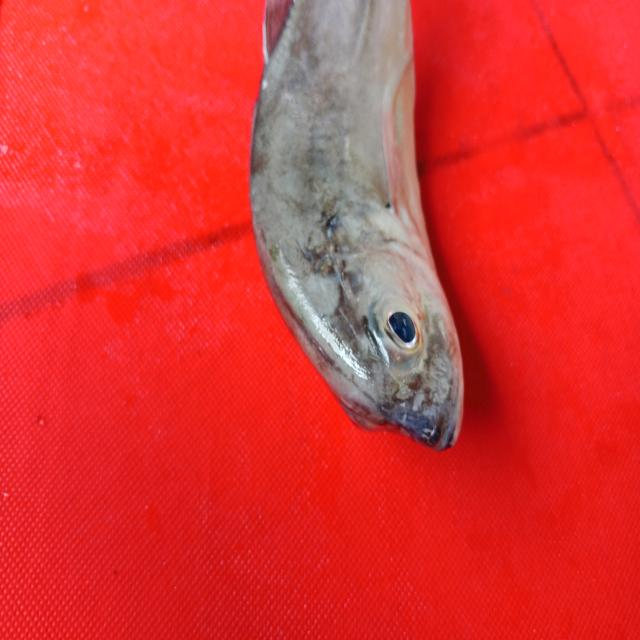ikan: (248, 0, 466, 452)
